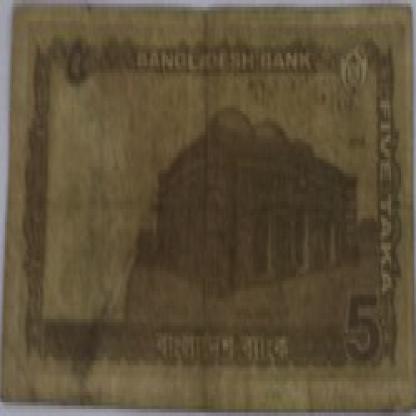Five Taka: (346, 274, 384, 402), (376, 94, 398, 298), (53, 28, 97, 97)
